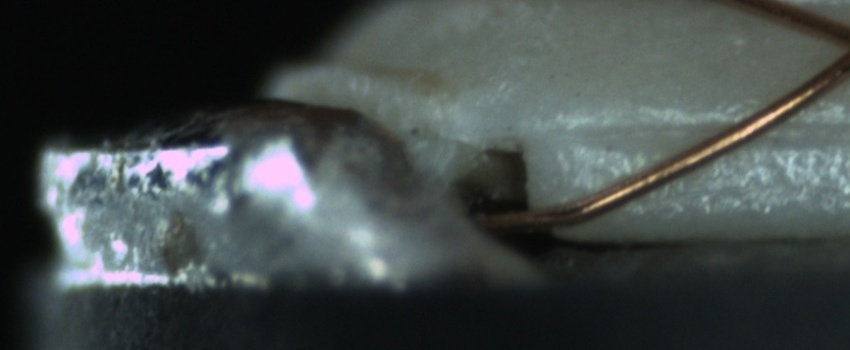DL: (568, 94, 846, 161)
